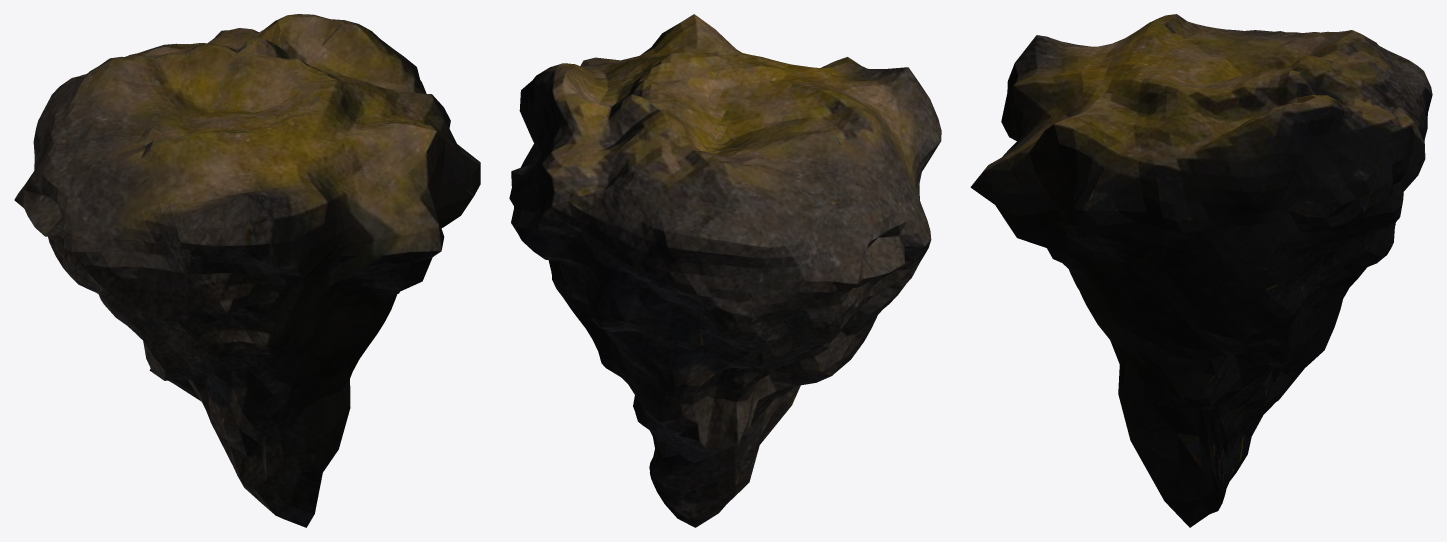
Rendered from floating_rock_2.glb.
The picture shows the model from 3 angles, left to right: view 1: azimuth 30°, elevation 25°; view 2: azimuth 150°, elevation 25°; view 3: azimuth 270°, elevation 25°; orthographic projection. The views are drawn at different scales.
Parts seen in each view (by area): view 1: Floating rock 2.001; view 2: Floating rock 2.001; view 3: Floating rock 2.001.
Part boxes in pixels (x1,y1,x2,y2): Floating rock 2.001: (14,14,480,527); Floating rock 2.001: (509,14,941,527); Floating rock 2.001: (970,14,1432,527).
Size of the model in its own units: 5.23 by 6.13 by 5.59.
Materials: 1 (1 with a texture image).
